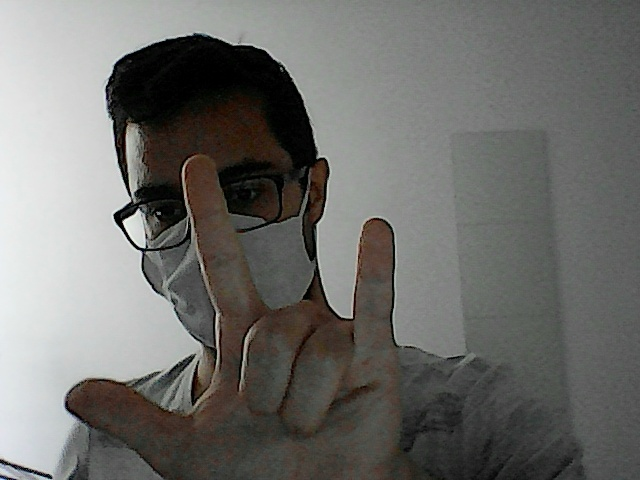shoot: (58, 140, 414, 480)
